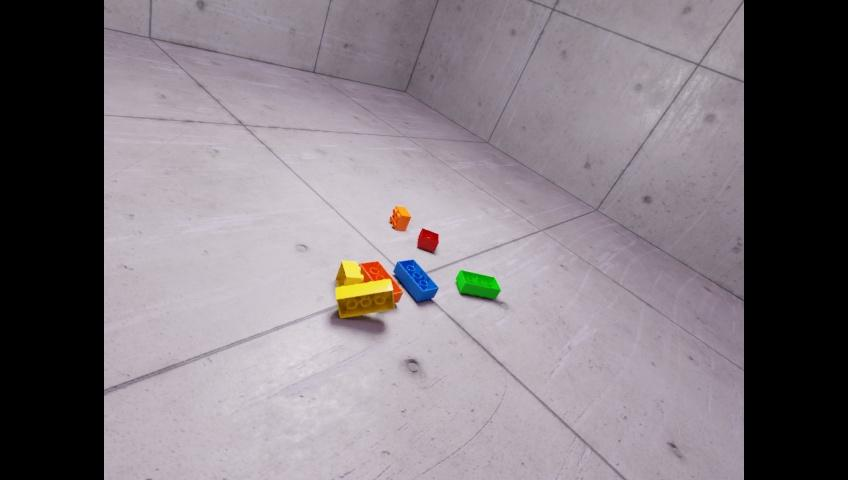2x2_orange: (389, 205, 410, 231)
2x2_red: (418, 228, 439, 252)
2x2_yellow: (335, 260, 362, 288)
4x2_blue: (393, 258, 438, 301)
4x2_green: (455, 269, 500, 298)
4x2_orange: (358, 260, 402, 303)
4x2_yellow: (335, 278, 395, 318)
